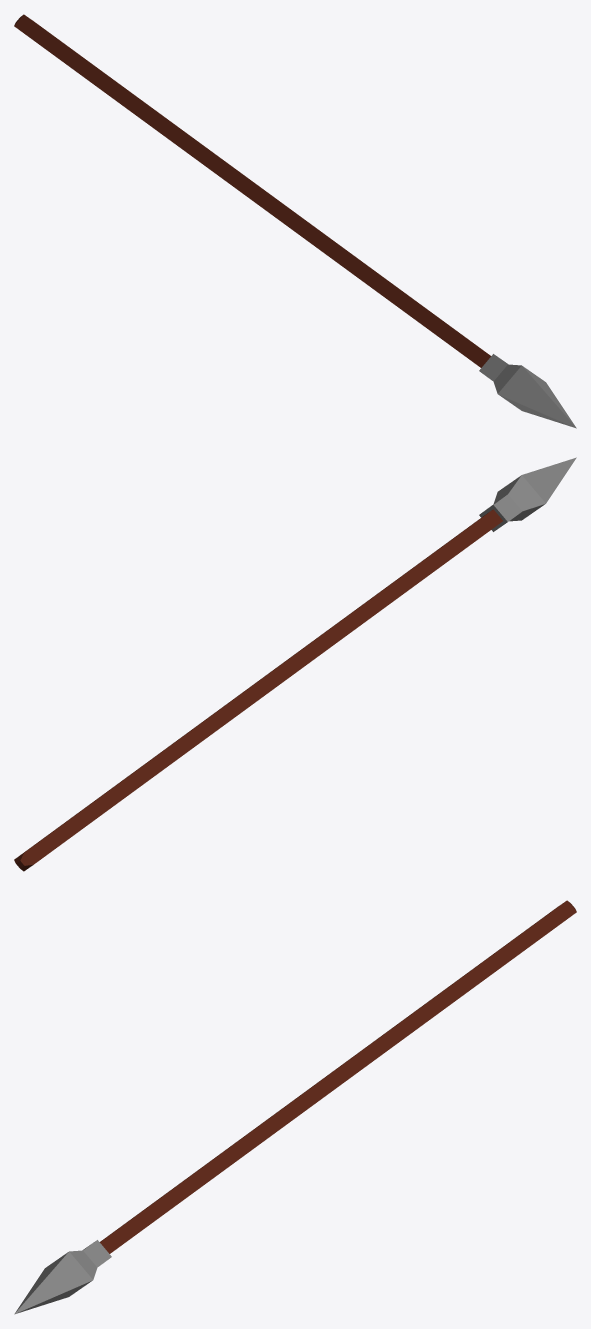
The model's file is Spear.fbx.
3 renders of one model, top to bottom at view 1: azimuth 30°, elevation 25°; view 2: azimuth 150°, elevation 25°; view 3: azimuth 330°, elevation 25°, orthographic.
Visible parts, largest first — view 1: SpearMesh; view 2: SpearMesh; view 3: SpearMesh.
Boxes of the visible parts, x1,y1,x2,y2 form: SpearMesh: (14, 14, 576, 428); SpearMesh: (14, 457, 576, 871); SpearMesh: (14, 900, 576, 1314).
Size of the model in its own units: 0.1007 by 0.0903 by 2.
